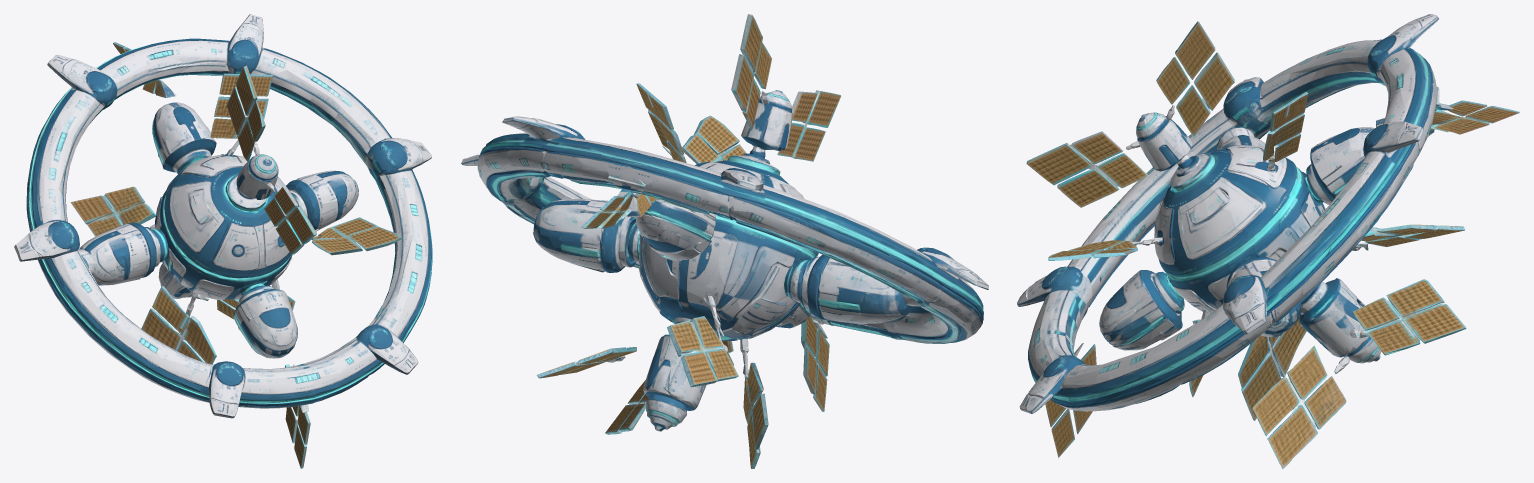
The model's file is station-raw.glb.
3 views of the same model, side by side, from view 1: azimuth 30°, elevation 25°; view 2: azimuth 150°, elevation 25°; view 3: azimuth 270°, elevation 25° (orthographic). The views are drawn at different scales.
Visible parts, largest first — view 1: Mesh_0; view 2: Mesh_0; view 3: Mesh_0.
Boxes of the visible parts, <box> form: Mesh_0: <box>14,14,432,468</box>; Mesh_0: <box>461,14,988,468</box>; Mesh_0: <box>1017,14,1519,468</box>.
Size of the model in its own units: 1.9 by 1.58 by 1.65.
1 material, 1 textured.
